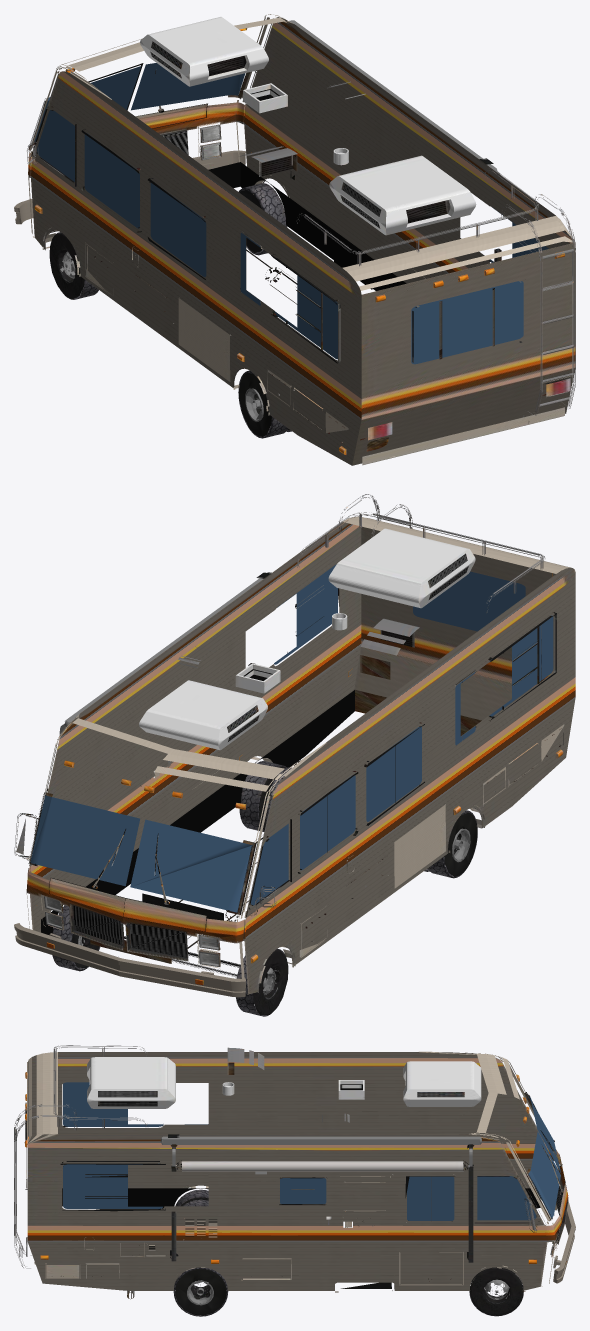
Rendered from bounder_hatches.glb.
The picture shows the model from 3 angles, top to bottom: view 1: azimuth 30°, elevation 25°; view 2: azimuth 150°, elevation 25°; view 3: azimuth 270°, elevation 25°; orthographic projection. The views are drawn at different scales.
Parts seen in each view (by area): view 1: BlackMetal, winglass, tyresole, pureblack, Aluminium, plane_metal; view 2: BlackMetal, winglass, tyresole, pureblack, plane_metal, Aluminium; view 3: BlackMetal, winglass, tyresole, Aluminium, pureblack, plane_metal.
Boxes of the visible parts, x1=… form: BlackMetal: x1=27, y1=14, x2=575, y2=465; winglass: x1=34, y1=63, x2=548, y2=364; tyresole: x1=49, y1=183, x2=291, y2=438; pureblack: x1=50, y1=89, x2=406, y2=290; Aluminium: x1=200, y1=20, x2=499, y2=173; plane_metal: x1=14, y1=150, x2=245, y2=224; BlackMetal: x1=14, y1=494, x2=575, y2=994; winglass: x1=30, y1=564, x2=553, y2=912; tyresole: x1=52, y1=761, x2=477, y2=1016; pureblack: x1=41, y1=669, x2=354, y2=935; plane_metal: x1=14, y1=923, x2=245, y2=997; Aluminium: x1=44, y1=572, x2=271, y2=966; BlackMetal: x1=14, y1=1045, x2=568, y2=1299; winglass: x1=63, y1=1082, x2=560, y2=1220; tyresole: x1=173, y1=1189, x2=523, y2=1316; Aluminium: x1=160, y1=1136, x2=555, y2=1254; pureblack: x1=62, y1=1084, x2=567, y2=1249; plane_metal: x1=553, y1=1201, x2=575, y2=1283.
Bounding box in the file's own units: 3.52 × 3.46 × 8.59.
6 materials, 3 textured.
